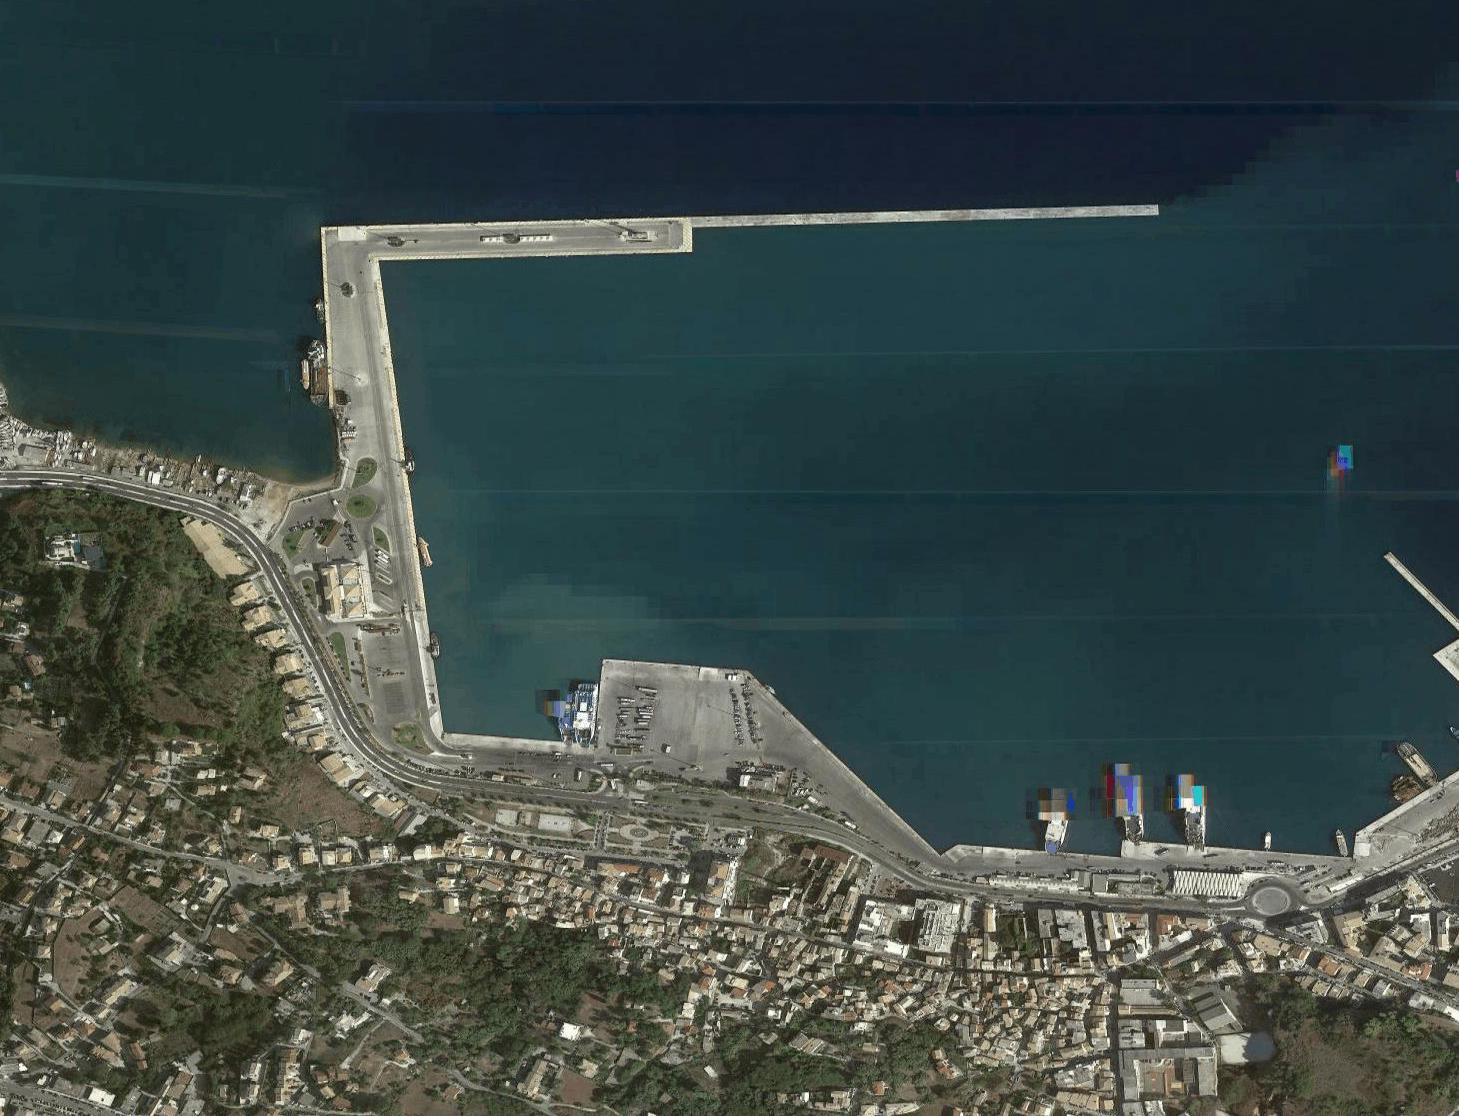harbor: (281, 173, 1459, 905)
